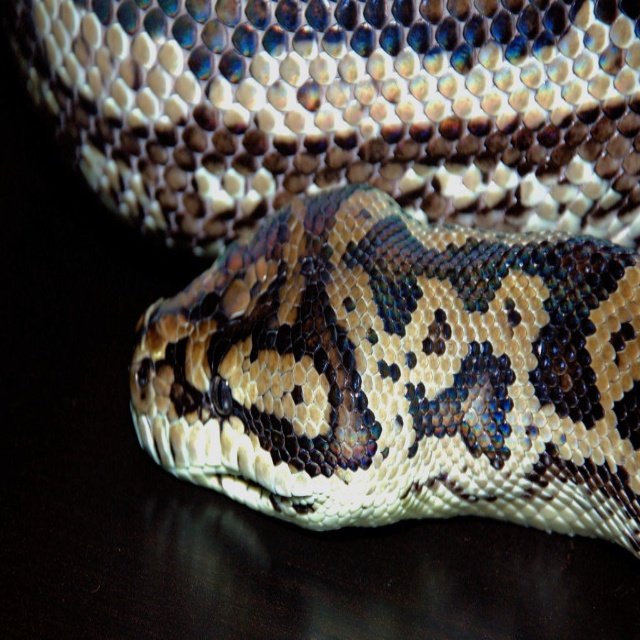Snake: (0, 0, 640, 559)
